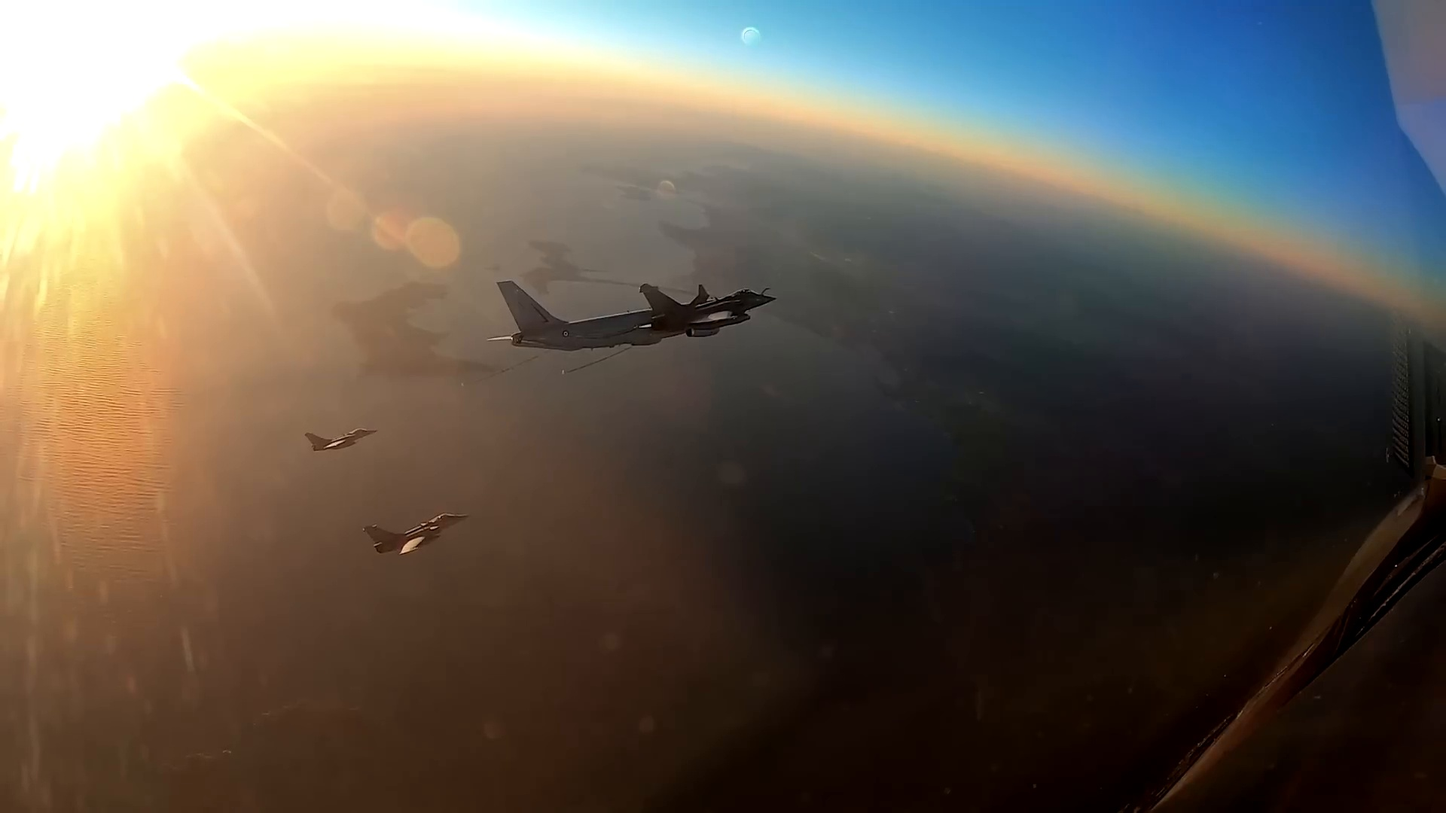Rafale: (642, 280, 775, 338), (359, 509, 471, 560), (302, 423, 377, 454)
